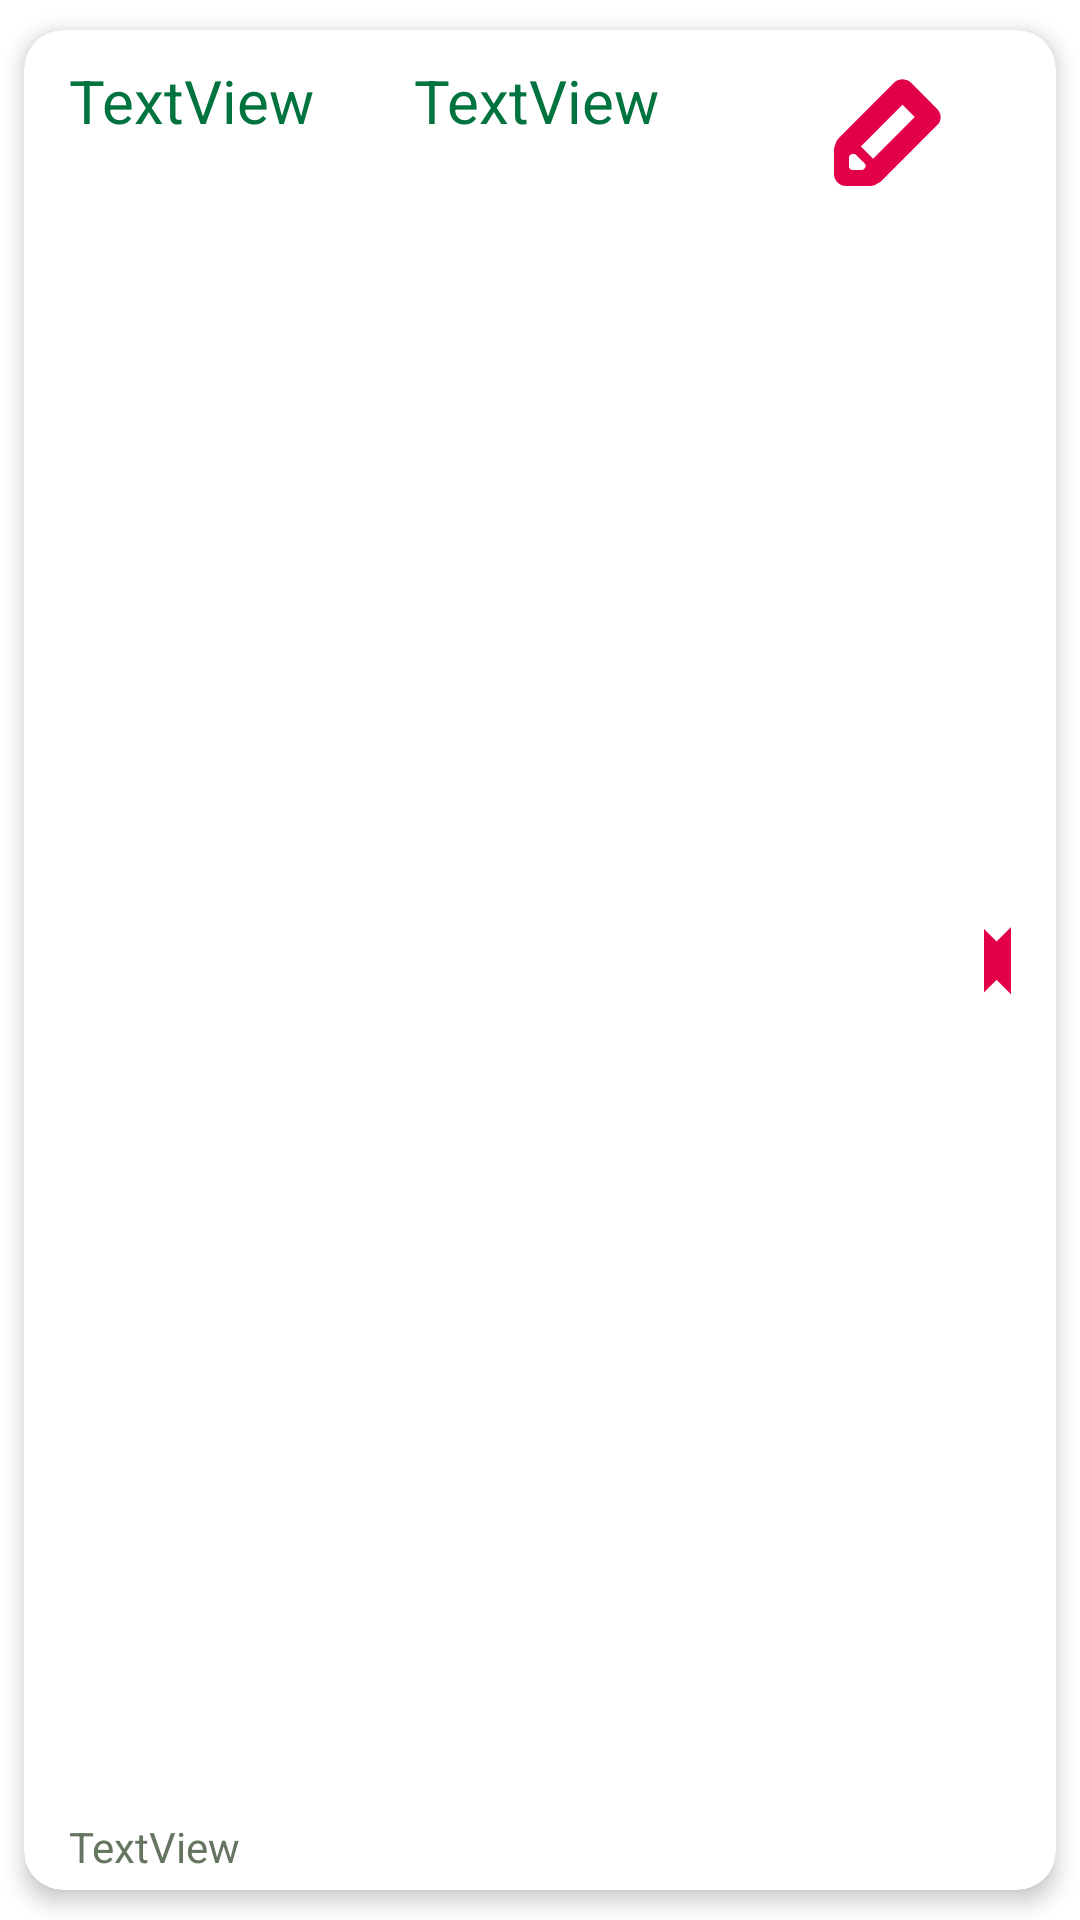

Screen size 1080×1920. Icon name, then its box in pixels as (x1, y1, x2, y2):
edit product: (834, 79, 941, 186)
